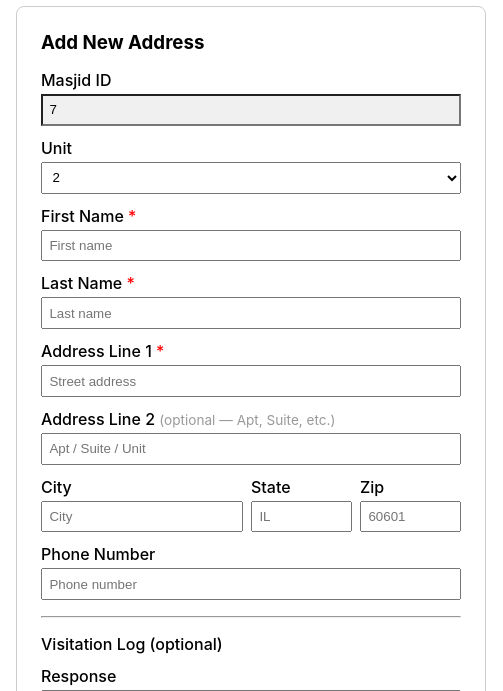
AddAddress duplicate check › allowUpdateExisting: activates an inactive match and logs the visit on it
The image size is (503, 691).
Type "123 Main St" into the field with placeholder "Street address" at [251, 381], box [41, 365, 461, 397]
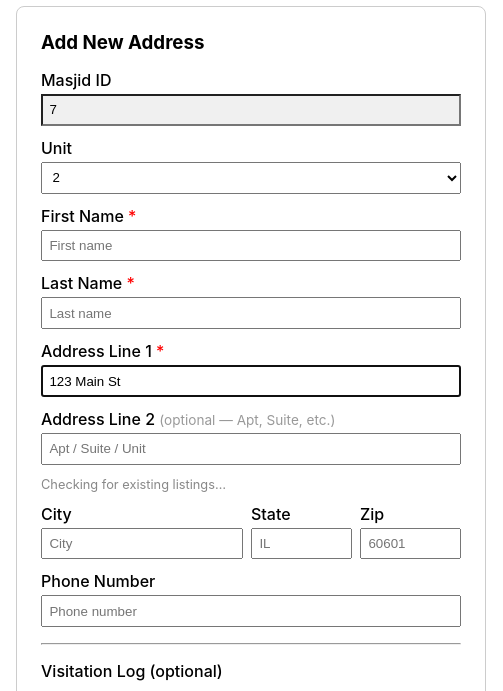
Type "#4b" into the field with placeholder "Apt / Suite / Unit" at [251, 449], box [41, 433, 461, 465]
(page scrolled)
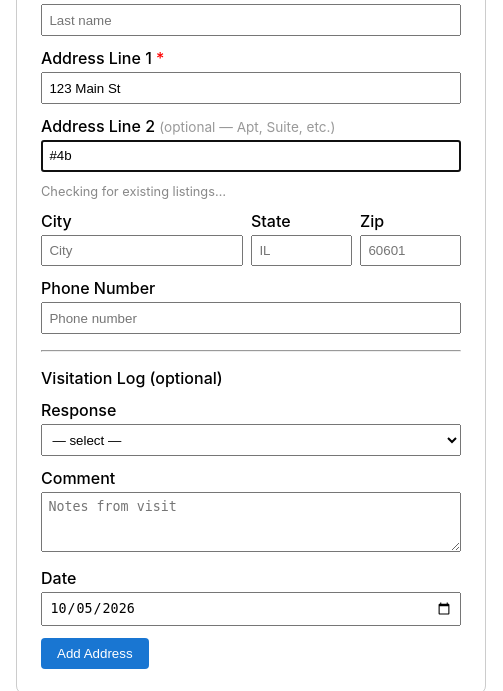
Select "Met" in the dropdown at [251, 440], box [41, 424, 461, 456]
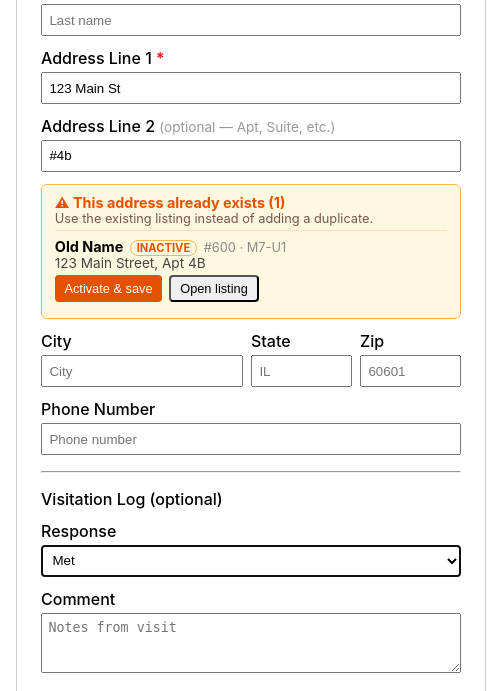
Result: the text "⚠ This address already exists (1)" is shown at [55, 194, 285, 211]
Result: the text "INACTIVE" is shown at [130, 240, 197, 256]
Click the button "Activate & save" at [108, 289], box [55, 276, 162, 302]
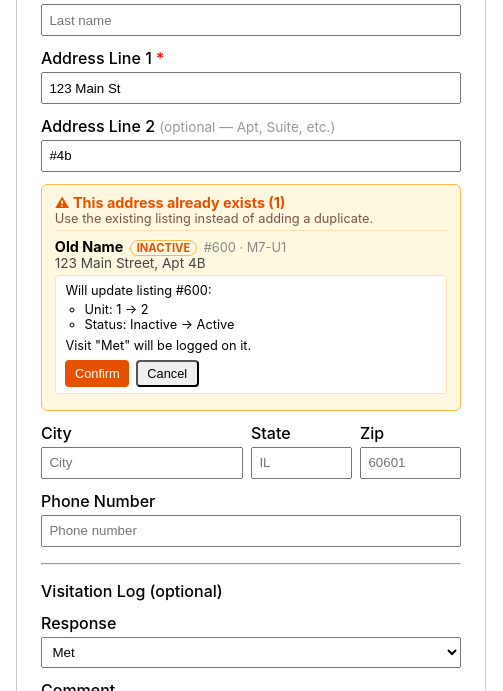
Result: the list item "Status: Inactive → Active" is shown at [85, 317, 234, 332]
Click the button "Confirm" at [97, 373], box [65, 360, 129, 387]
(page scrolled)
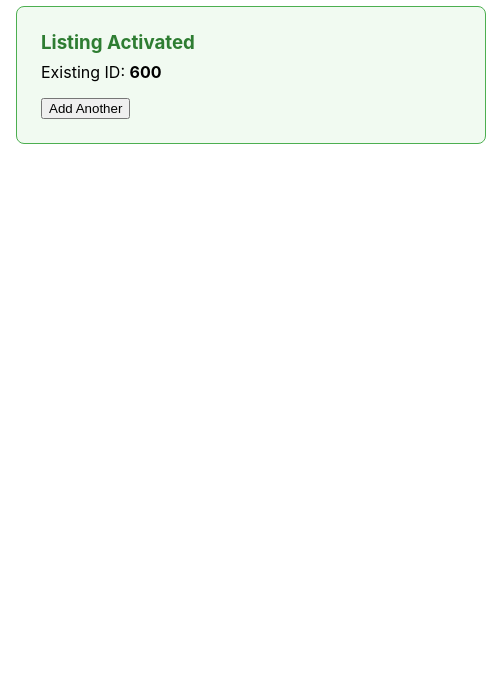
Result: the heading "Listing Activated" is shown at [41, 31, 195, 54]
